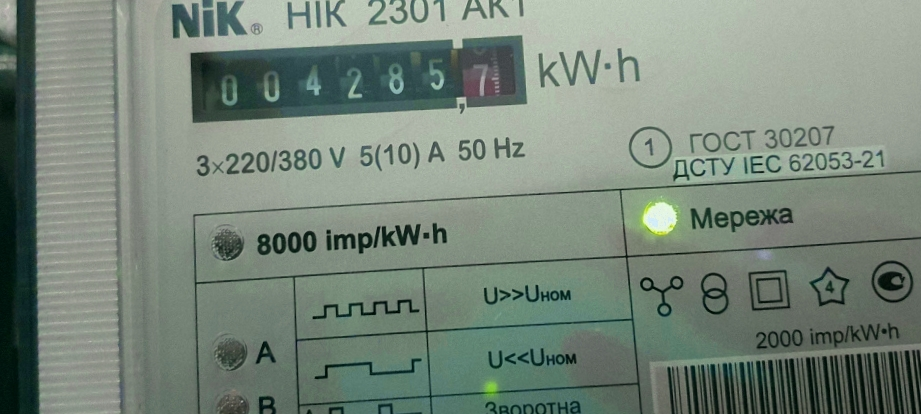0: (259, 66, 282, 104), (217, 70, 239, 107)
2: (343, 64, 364, 100)
4: (303, 61, 321, 97)
5: (424, 54, 446, 91)
7: (469, 61, 490, 97)
8: (383, 59, 406, 97)
screen: (173, 23, 542, 135)
